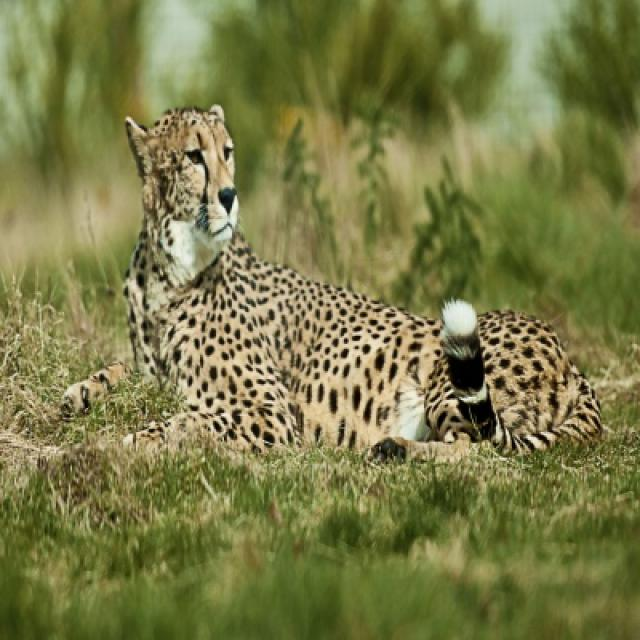Cheetah: (123, 106, 602, 458)
